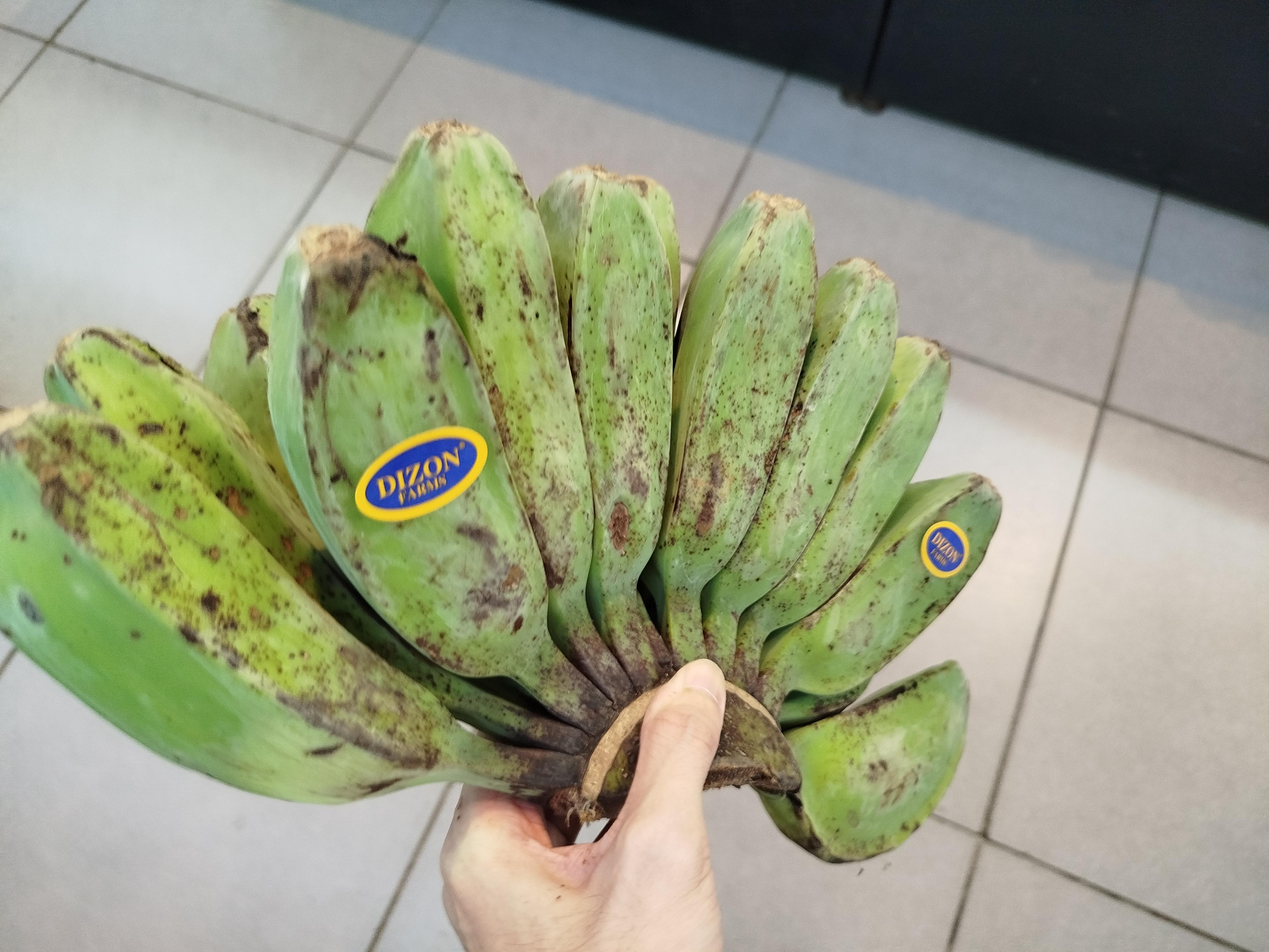underripe: (3, 122, 1004, 863)
